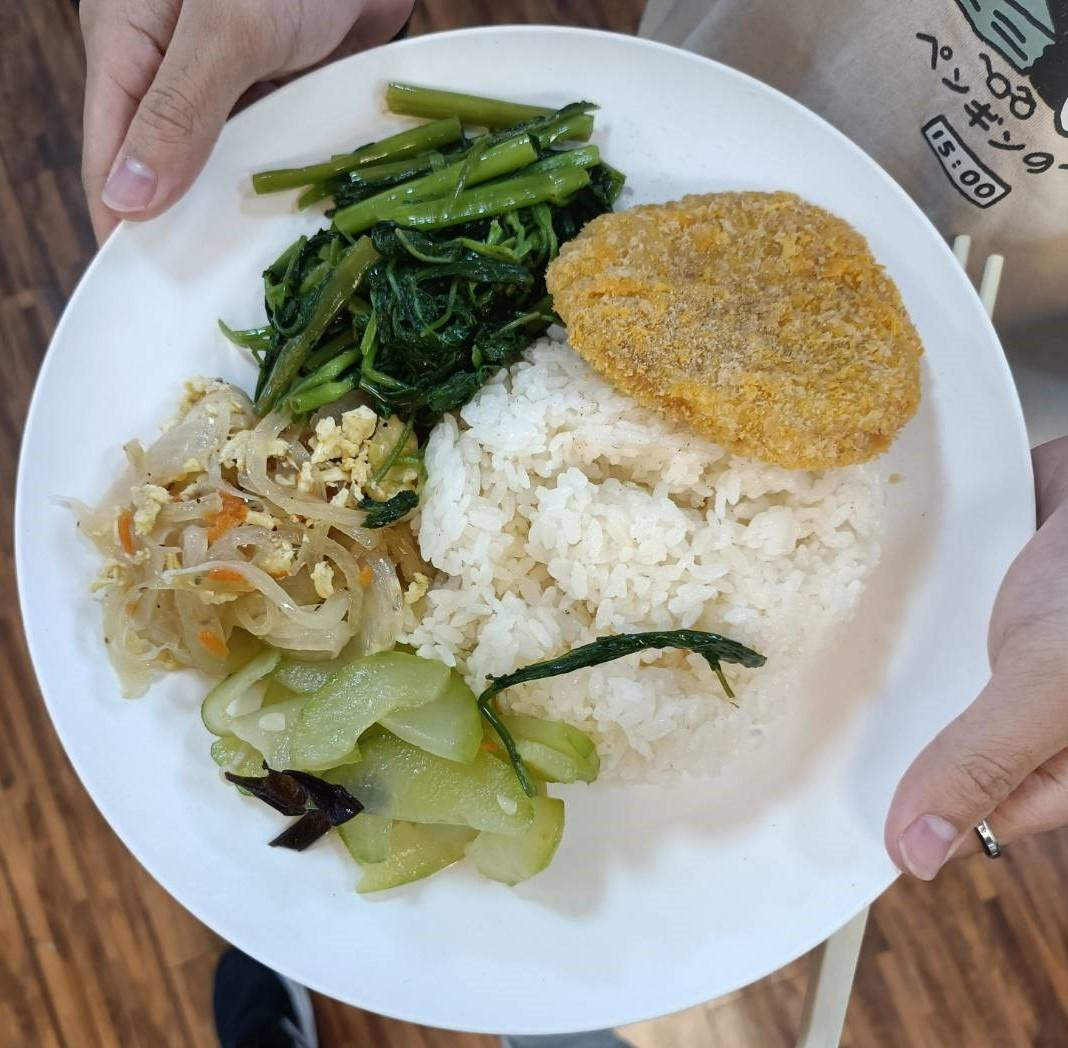big fried chicken leg: (10, 23, 1042, 1045)
big herbal chicken leg: (421, 340, 892, 773)
braised fish fillet: (236, 76, 619, 422), (196, 643, 600, 897), (72, 396, 425, 681)
braised pork: (546, 178, 928, 472)
